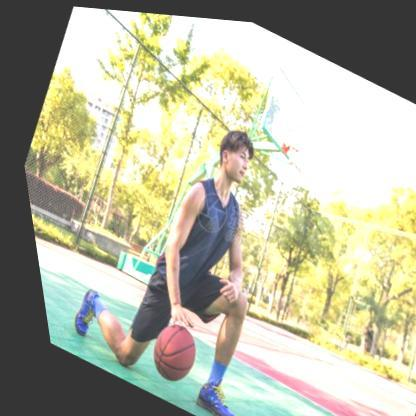basketball: (129, 313, 198, 387)
